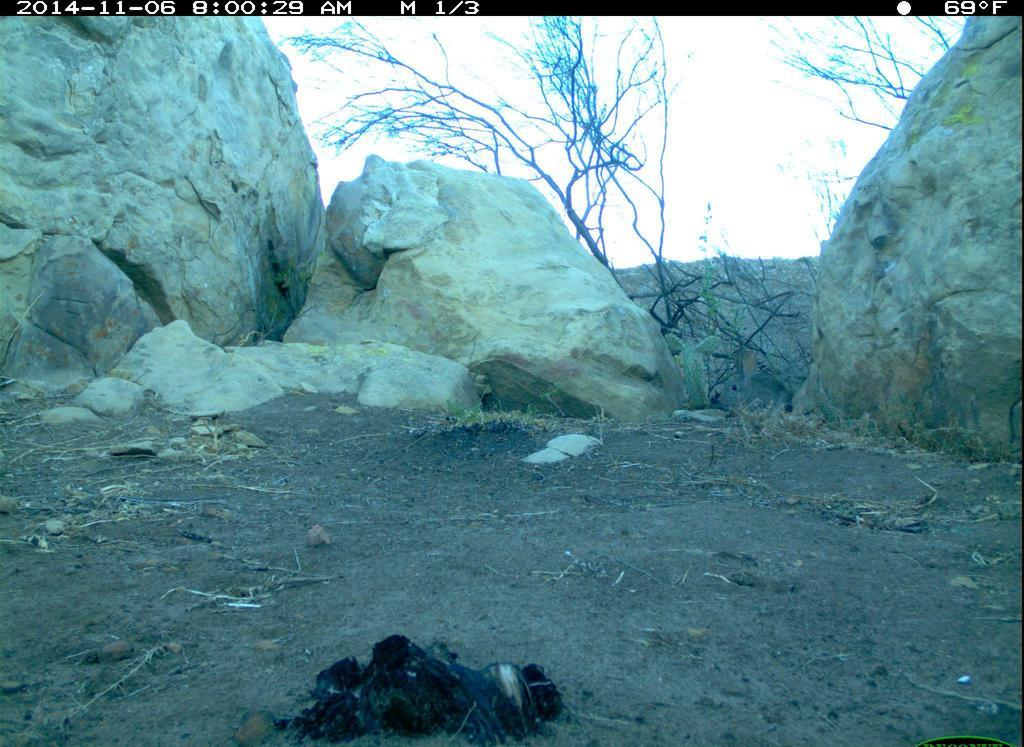rabbit: (719, 350, 797, 440)
